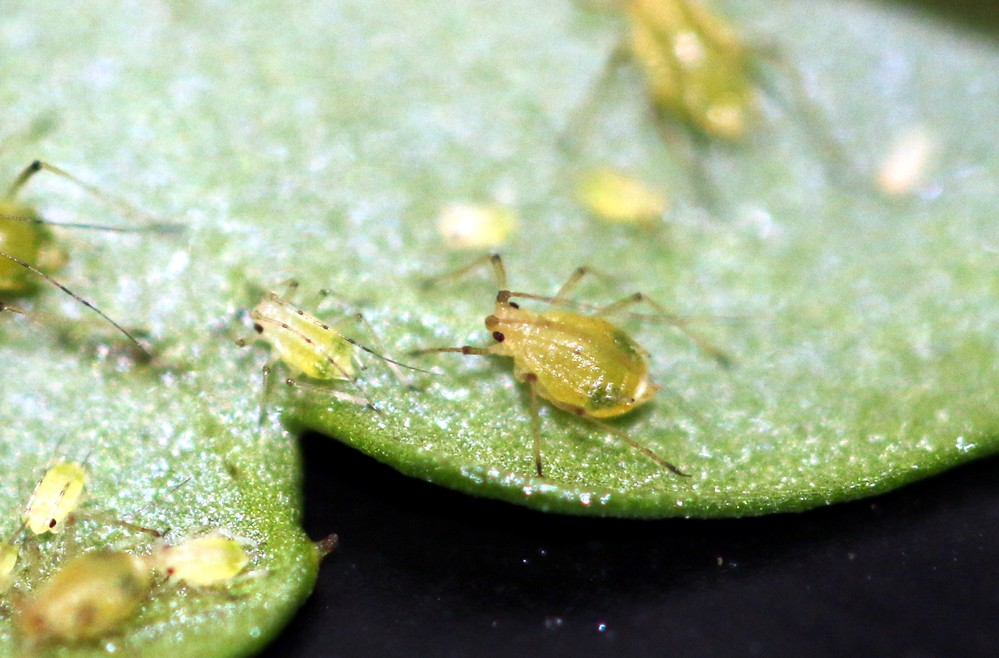Pulgon: (424, 249, 726, 487), (225, 266, 421, 425), (136, 507, 279, 611), (8, 441, 106, 553)
